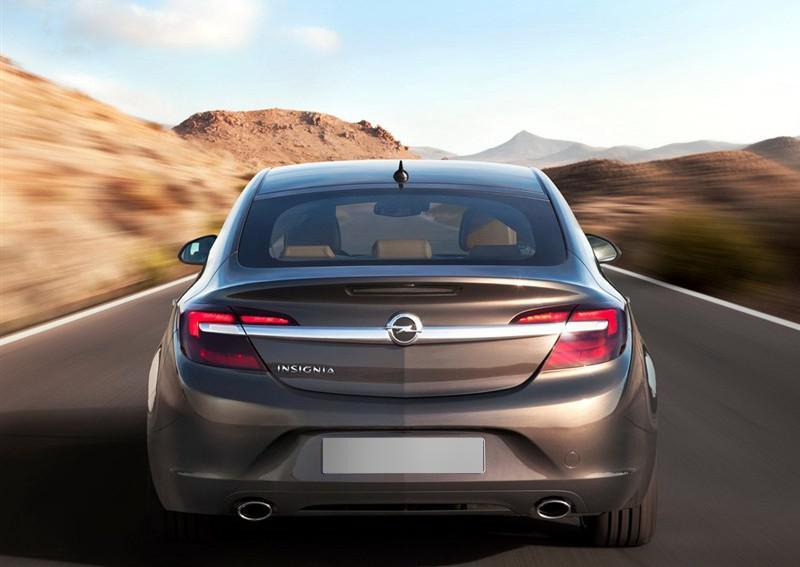Wagon: (144, 157, 659, 545)
